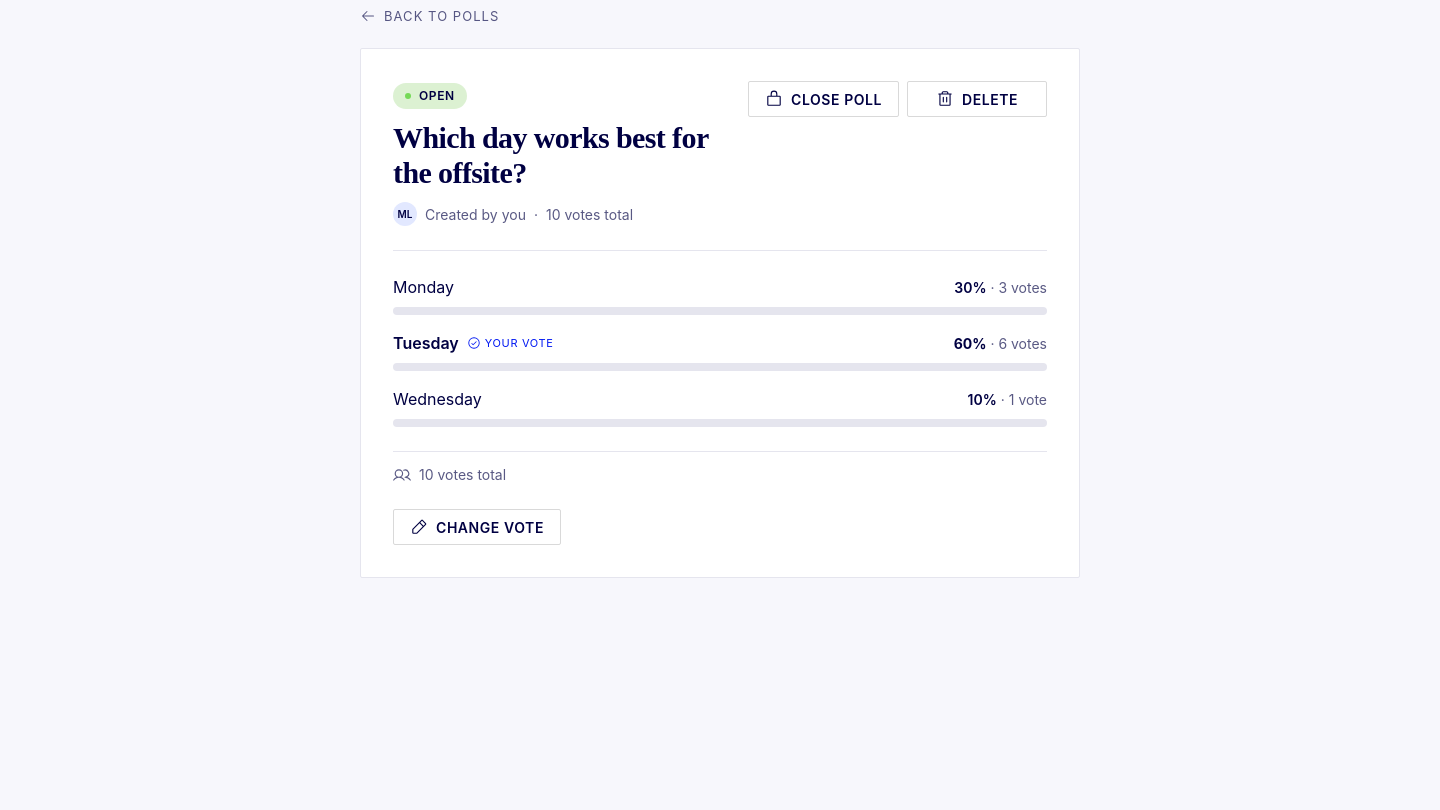
it: PollDetailPage › PollDetailPage — owner — shows Close and Delete, and Delete opens a naming confirm
Expected: the text "Created by you" is shown, x1=425 y1=204 x2=526 y2=224
Click the button "Delete". click: (977,99)
box: x1=907 y1=81 x2=1047 y2=117
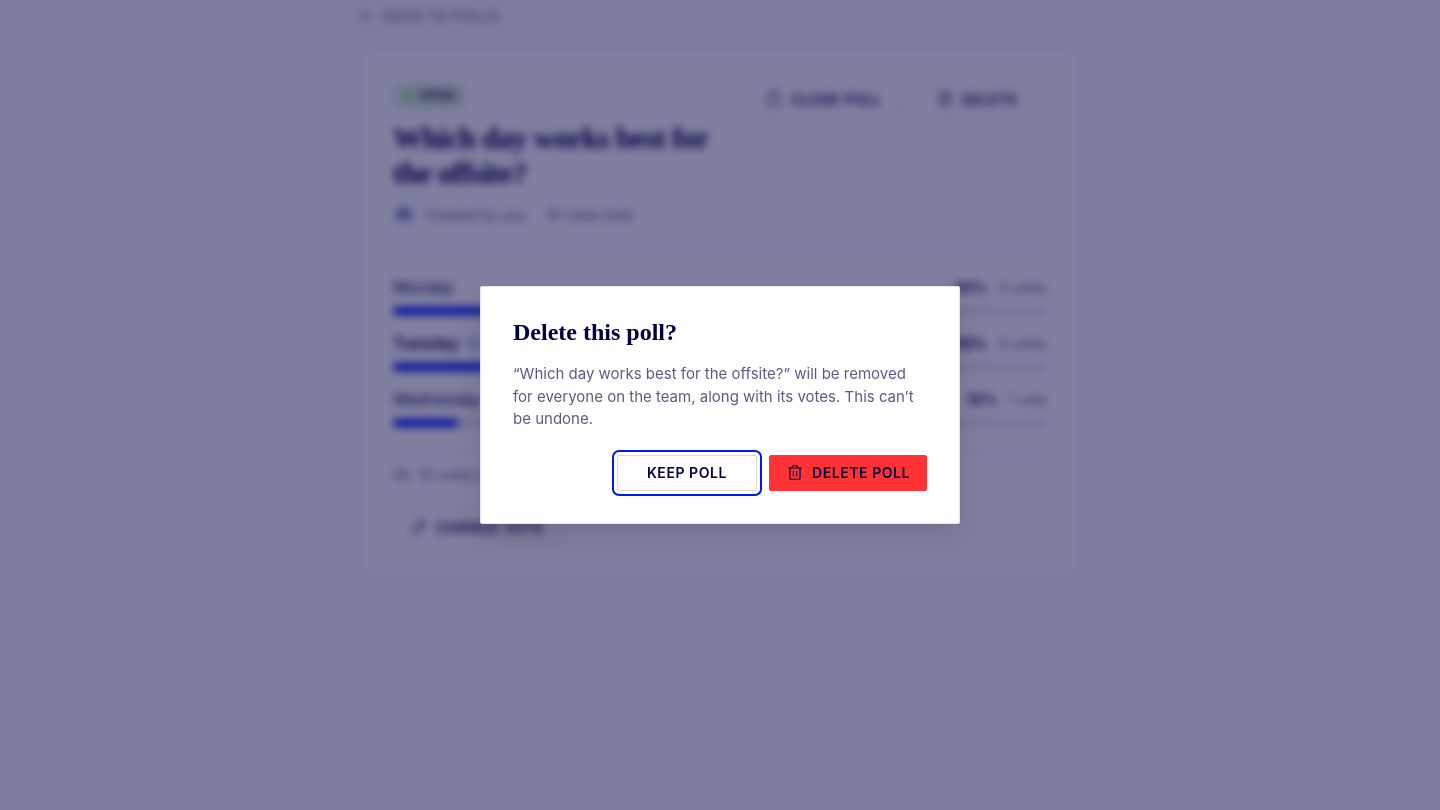
Expected: the button "Close poll" is shown, x1=748 y1=81 x2=899 y2=117
Result: the text "Which day works best for the offsite" is shown at x1=520 y1=364 x2=783 y2=383
